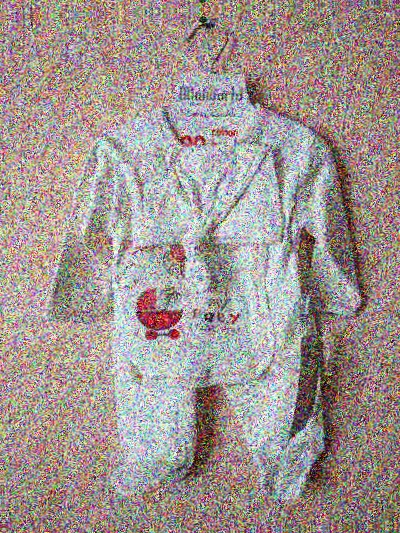Body: (27, 50, 374, 518)
